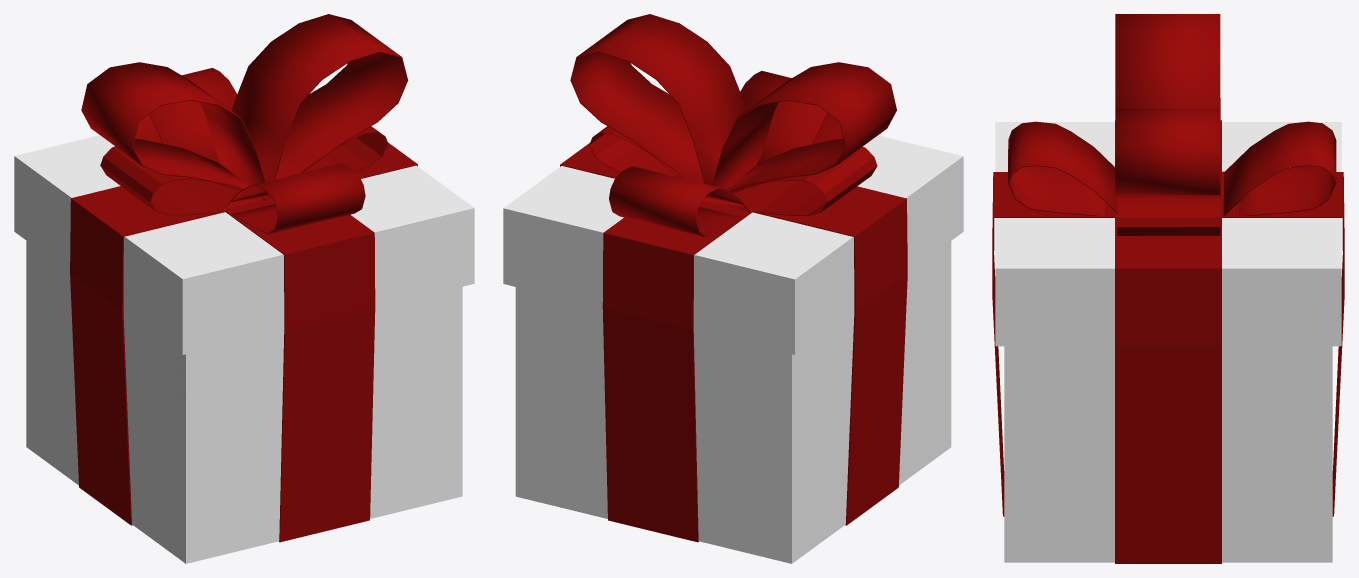
File: gift.glb
3 renders of one model, left to right at view 1: azimuth 30°, elevation 25°; view 2: azimuth 150°, elevation 25°; view 3: azimuth 270°, elevation 25°, orthographic. The views are drawn at different scales.
Visible parts, largest first — view 1: Cube, Cube.001, BezierCurve, Plane, Plane.001, BezierCurve.002, BezierCurve.001; view 2: Cube, Cube.001, BezierCurve, Plane, Plane.001, BezierCurve.002, BezierCurve.001; view 3: Cube, Plane.001, Cube.001, BezierCurve, BezierCurve.002, Plane, BezierCurve.001.
Part boxes in pixels (x1=…): Cube: x1=26, y1=241, x2=462, y2=563; Cube.001: x1=14, y1=90, x2=474, y2=354; BezierCurve: x1=81, y1=14, x2=408, y2=200; Plane: x1=183, y1=161, x2=375, y2=542; Plane.001: x1=70, y1=142, x2=417, y2=525; BezierCurve.002: x1=135, y1=68, x2=365, y2=234; BezierCurve.001: x1=100, y1=126, x2=388, y2=215; Cube: x1=515, y1=241, x2=951, y2=563; Cube.001: x1=503, y1=90, x2=963, y2=354; BezierCurve: x1=570, y1=14, x2=896, y2=191; Plane: x1=602, y1=138, x2=842, y2=542; Plane.001: x1=560, y1=143, x2=907, y2=525; BezierCurve.002: x1=609, y1=71, x2=842, y2=237; BezierCurve.001: x1=589, y1=126, x2=877, y2=215; Cube: x1=1004, y1=346, x2=1332, y2=562; Plane.001: x1=1115, y1=120, x2=1221, y2=563; Cube.001: x1=995, y1=122, x2=1341, y2=346; BezierCurve: x1=1115, y1=14, x2=1220, y2=195; BezierCurve.002: x1=1008, y1=121, x2=1336, y2=215; Plane: x1=992, y1=171, x2=1344, y2=516; BezierCurve.001: x1=1117, y1=98, x2=1220, y2=235.
Bounding box in the file's own units: 0.62 × 0.8256 × 0.62.
